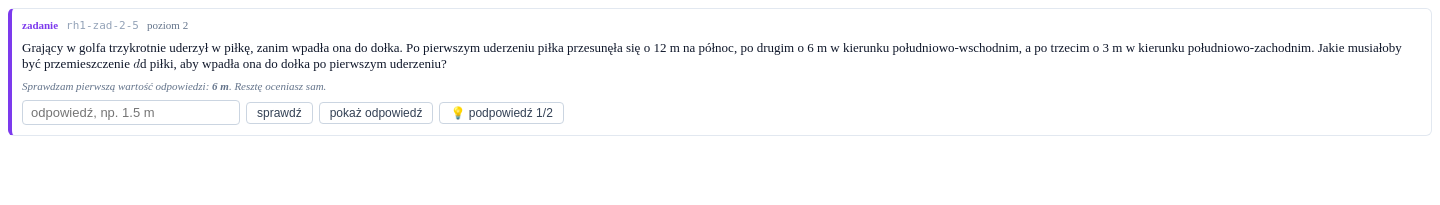
Test: zadanie 2-5 z Resnicka › pełna odpowiedź z książki czeka pod przyciskiem
Expected: the text "20,5" is not shown
Click the button "pokaż odpowiedź" at (376, 112), box [319, 102, 433, 124]
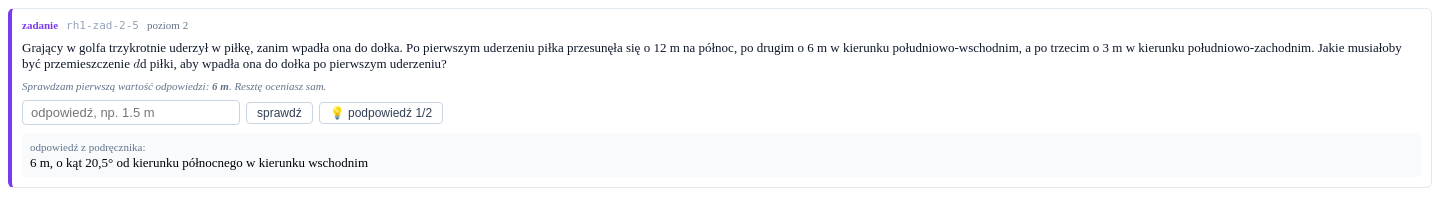
Result: the text "20,5" is shown at [30, 155, 368, 170]
